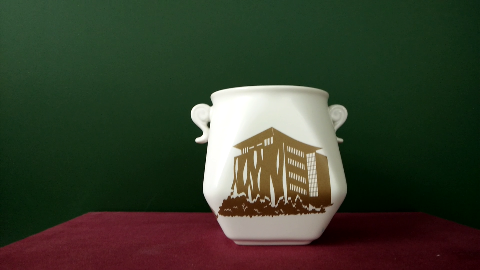library: (229, 136, 323, 210)
